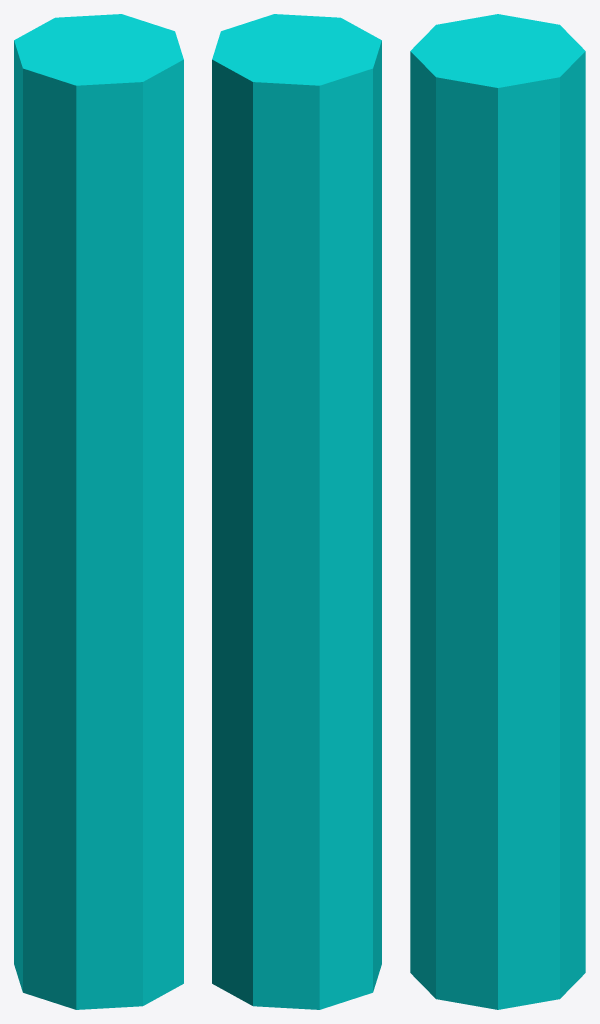
The model's file is SM_Bld_Stairs_Curve_02_Collision1.fbx.
3 renders of one model, left to right at view 1: azimuth 30°, elevation 25°; view 2: azimuth 150°, elevation 25°; view 3: azimuth 270°, elevation 25°, orthographic.
Visible parts, largest first — view 1: SM_Bld_Stairs_Curve_02_Collision1; view 2: SM_Bld_Stairs_Curve_02_Collision1; view 3: SM_Bld_Stairs_Curve_02_Collision1.
Part boxes in pixels (box(x1,y1,x2,y2)): SM_Bld_Stairs_Curve_02_Collision1: box(14, 14, 183, 1009); SM_Bld_Stairs_Curve_02_Collision1: box(212, 14, 381, 1009); SM_Bld_Stairs_Curve_02_Collision1: box(410, 14, 585, 1009).
Size of the model in its own units: 51.7 by 300 by 51.7.
